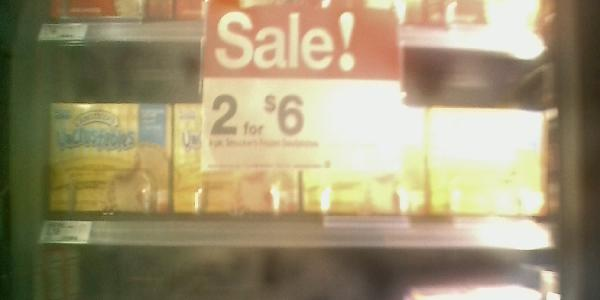icecream: (298, 102, 429, 220), (174, 102, 303, 220), (427, 103, 553, 223), (49, 101, 174, 218)
